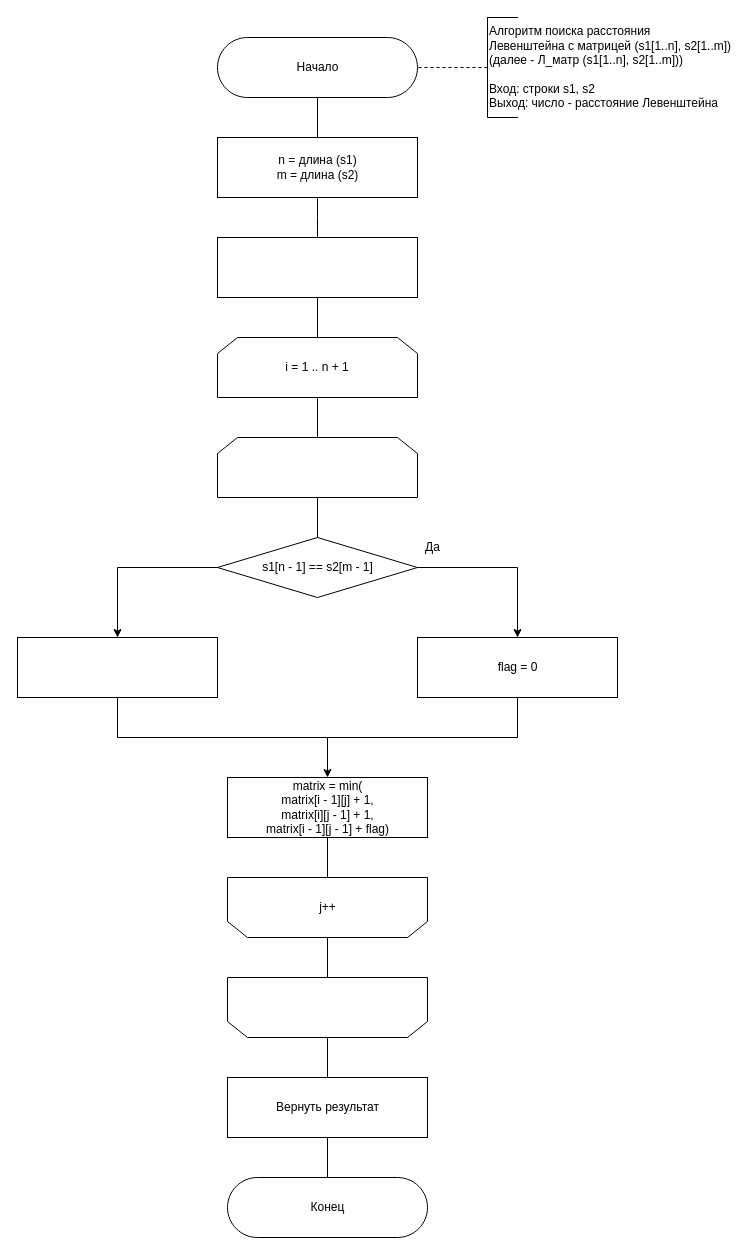
Image size: 749x1255. Some labels were removed from this diagram. The centre of each missing label's shape, as x and y in pixels:
"flag = 1" belongs at (117,667).
"i++" belongs at (327,1007).
"j = 1 .. m + 1" belongs at (317,467).
"Создать матрицу и заполнить ее нулевую строку и нулевой столбец" belongs at (317,267).
